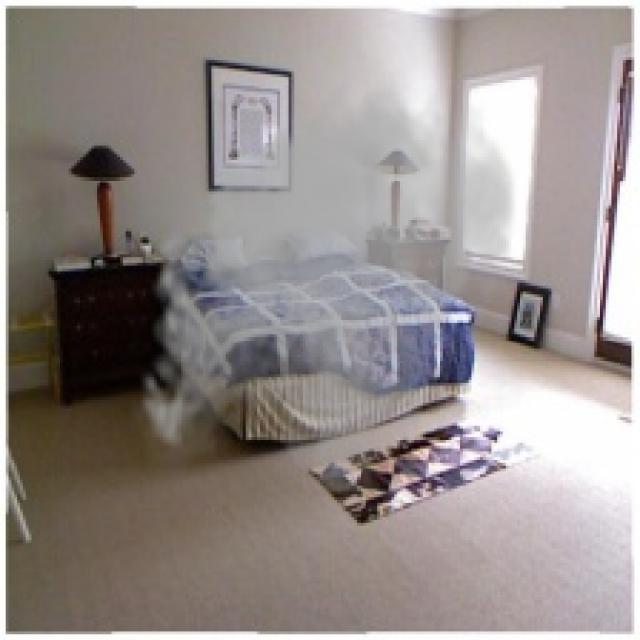smoke: (128, 72, 526, 497)
